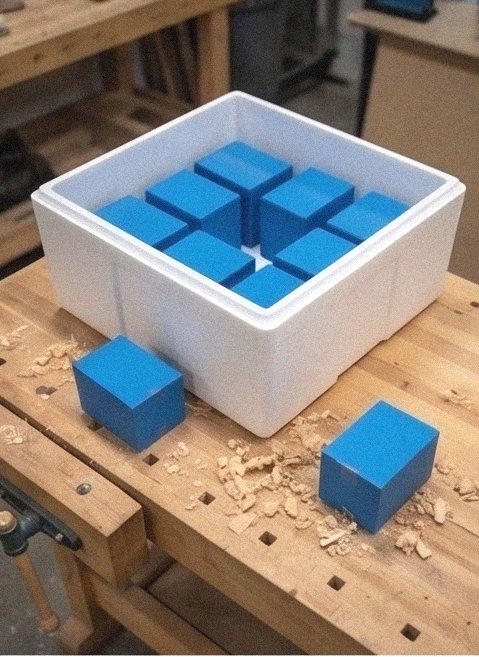blue_box: (320, 398, 442, 535), (73, 335, 187, 450), (194, 140, 295, 247), (261, 167, 357, 264), (148, 169, 242, 248), (163, 228, 257, 289), (93, 192, 188, 252), (324, 192, 416, 247), (278, 226, 362, 284), (230, 262, 310, 311)
container_box: (32, 88, 464, 443)
